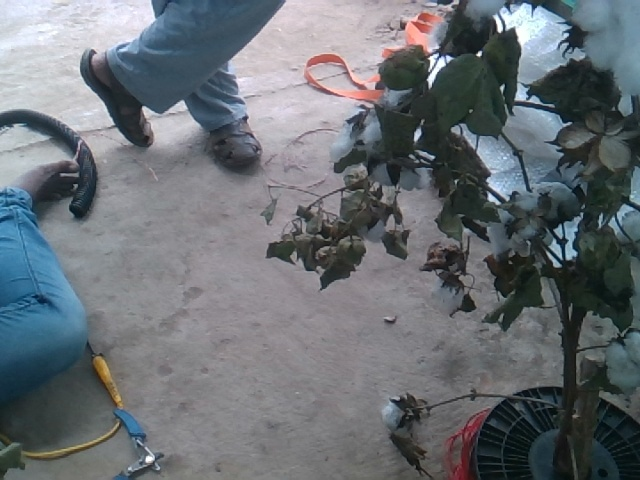cotton: (571, 1, 638, 95), (511, 185, 579, 218), (604, 333, 638, 395), (489, 225, 534, 256), (378, 396, 406, 433)
